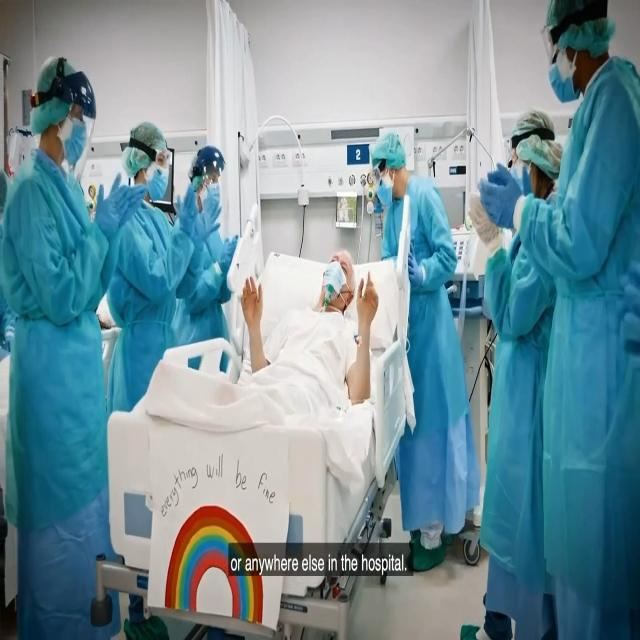Movement-Yes: (238, 229, 383, 404)
